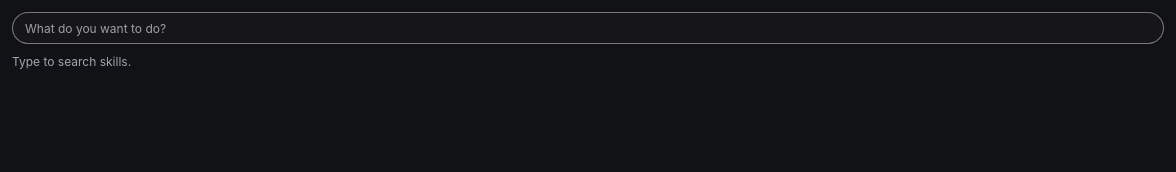
Test: SkillPicker › unblocks when facts supplied
The width and height of the screenshot is (1176, 172).
Step 1. Type "fix error" into the field with test id "skill-intent" → [588, 28], box x1=12 y1=12 x2=1164 y2=44
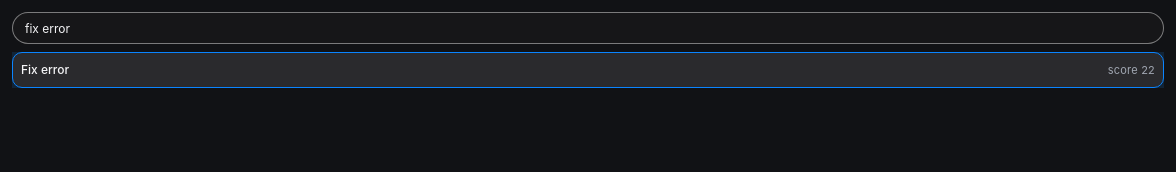
Expected: the button with test id "skill-option-fix" is enabled, x1=12 y1=52 x2=1164 y2=88
